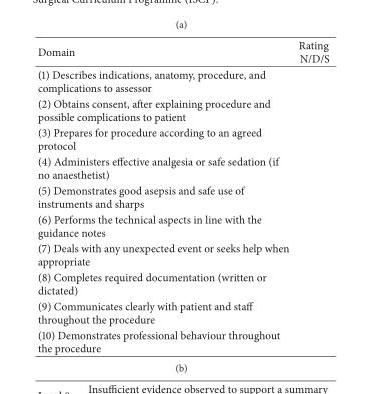table: (36, 37, 328, 355)
table column: (36, 37, 293, 355), (293, 37, 328, 355)
table column header: (36, 37, 328, 66)
table projected row header: (36, 66, 328, 95), (36, 95, 328, 124), (36, 124, 328, 153), (36, 153, 328, 182), (36, 210, 328, 239), (36, 239, 328, 268), (36, 268, 328, 297), (36, 297, 328, 326), (36, 182, 328, 210)
table row: (36, 37, 328, 66), (36, 66, 328, 95), (36, 95, 328, 124), (36, 124, 328, 153), (36, 153, 328, 182), (36, 210, 328, 239), (36, 239, 328, 268), (36, 268, 328, 297), (36, 297, 328, 326), (36, 326, 328, 355), (36, 182, 328, 210)
